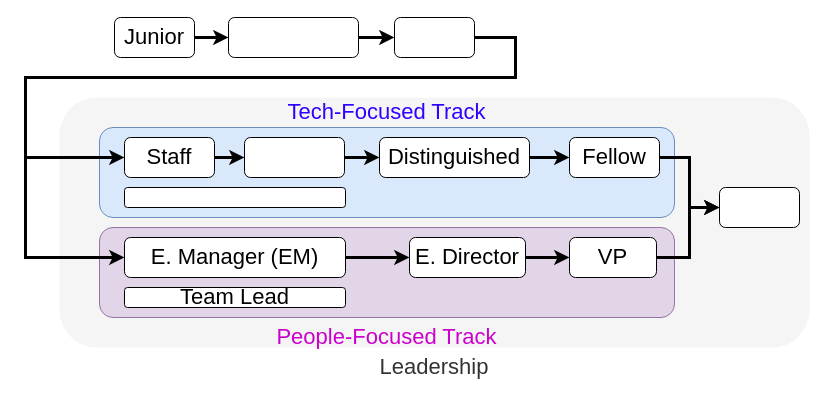
This 827x398 diagram has some shape labels left out. The centre of each missing label's shape, as x and y in pixels:
"CTO" goes at (759,207).
"Intermediate" goes at (293,37).
"Principal" goes at (294,157).
"Senior" goes at (434,37).
"Tech Lead" goes at (235,197).
